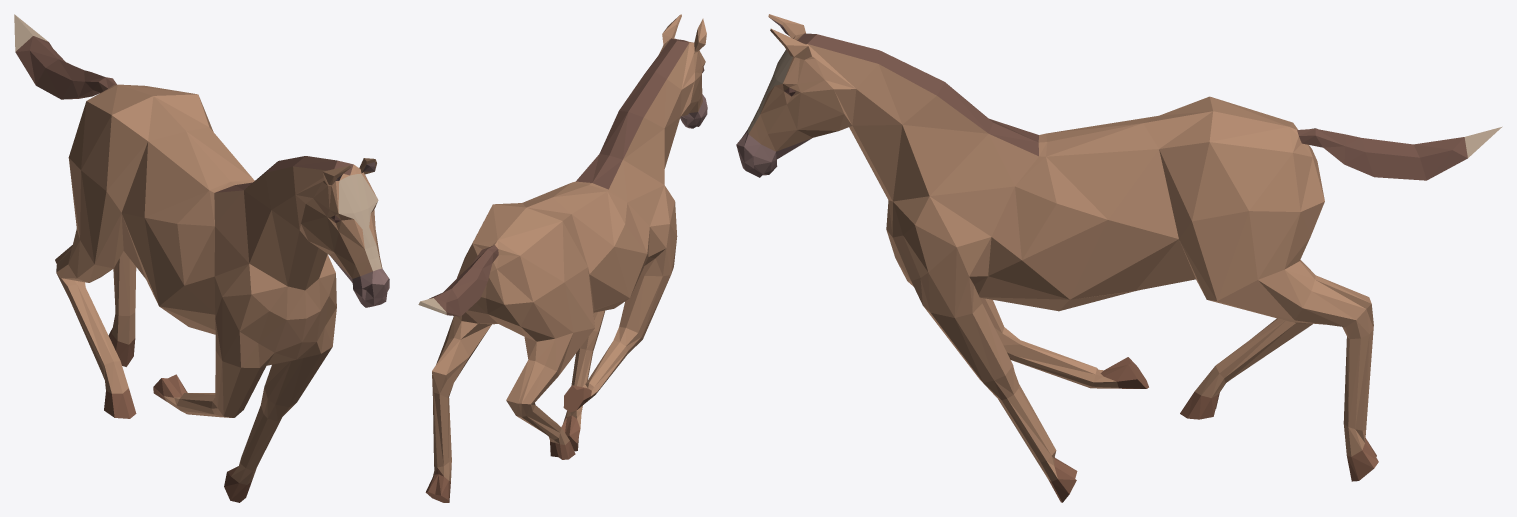
File: Horse.glb
The picture shows the model from 3 angles, left to right: view 1: azimuth 30°, elevation 25°; view 2: azimuth 150°, elevation 25°; view 3: azimuth 270°, elevation 25°; orthographic projection. The views are drawn at different scales.
Visible parts, largest first — view 1: mesh_0; view 2: mesh_0; view 3: mesh_0.
Part boxes in pixels (x1=…): mesh_0: x1=14, y1=14, x2=389, y2=502; mesh_0: x1=418, y1=14, x2=707, y2=502; mesh_0: x1=736, y1=14, x2=1502, y2=502.
Bounding box in the file's own units: 66.15 × 195 × 285.
